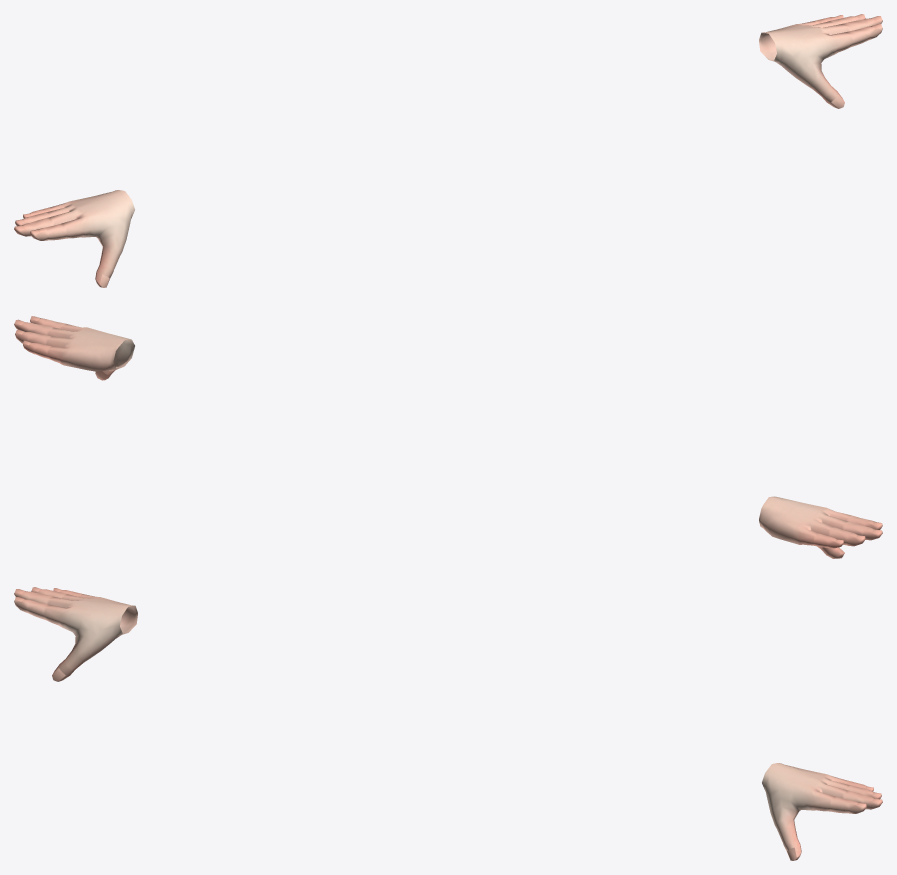
The model's file is p0_glv0000_00_glv00.gltf.
3 renders of one model, top to bottom at view 1: azimuth 30°, elevation 25°; view 2: azimuth 150°, elevation 25°; view 3: azimuth 330°, elevation 25°, orthographic.
Parts seen in each view (by area): view 1: glv00_glove_mesh_shape:glove_skin; view 2: glv00_glove_mesh_shape:glove_skin; view 3: glv00_glove_mesh_shape:glove_skin.
Boxes of the visible parts, left/top/right/bottom form: glv00_glove_mesh_shape:glove_skin: left=14, top=14, right=882, bottom=287; glv00_glove_mesh_shape:glove_skin: left=14, top=316, right=882, bottom=558; glv00_glove_mesh_shape:glove_skin: left=14, top=587, right=882, bottom=860.
Size of what is drawn, in the model's own units: 1.36 by 0.1019 by 0.1177.
1 material, 1 textured.
